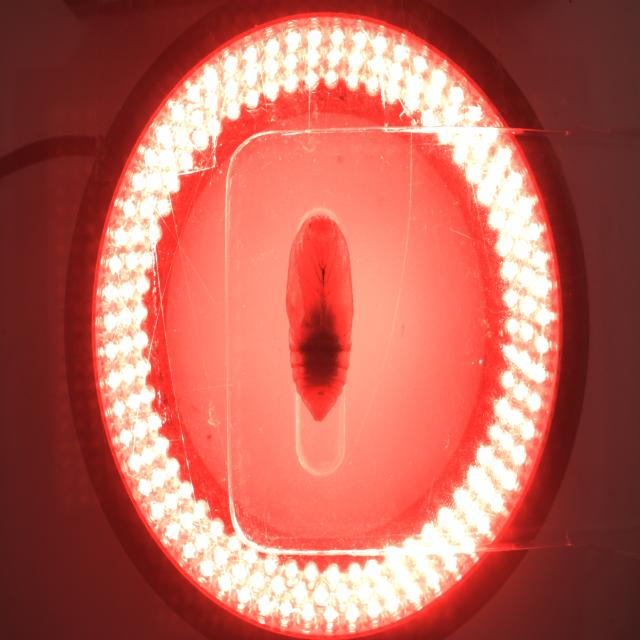male: (314, 385, 329, 400)
